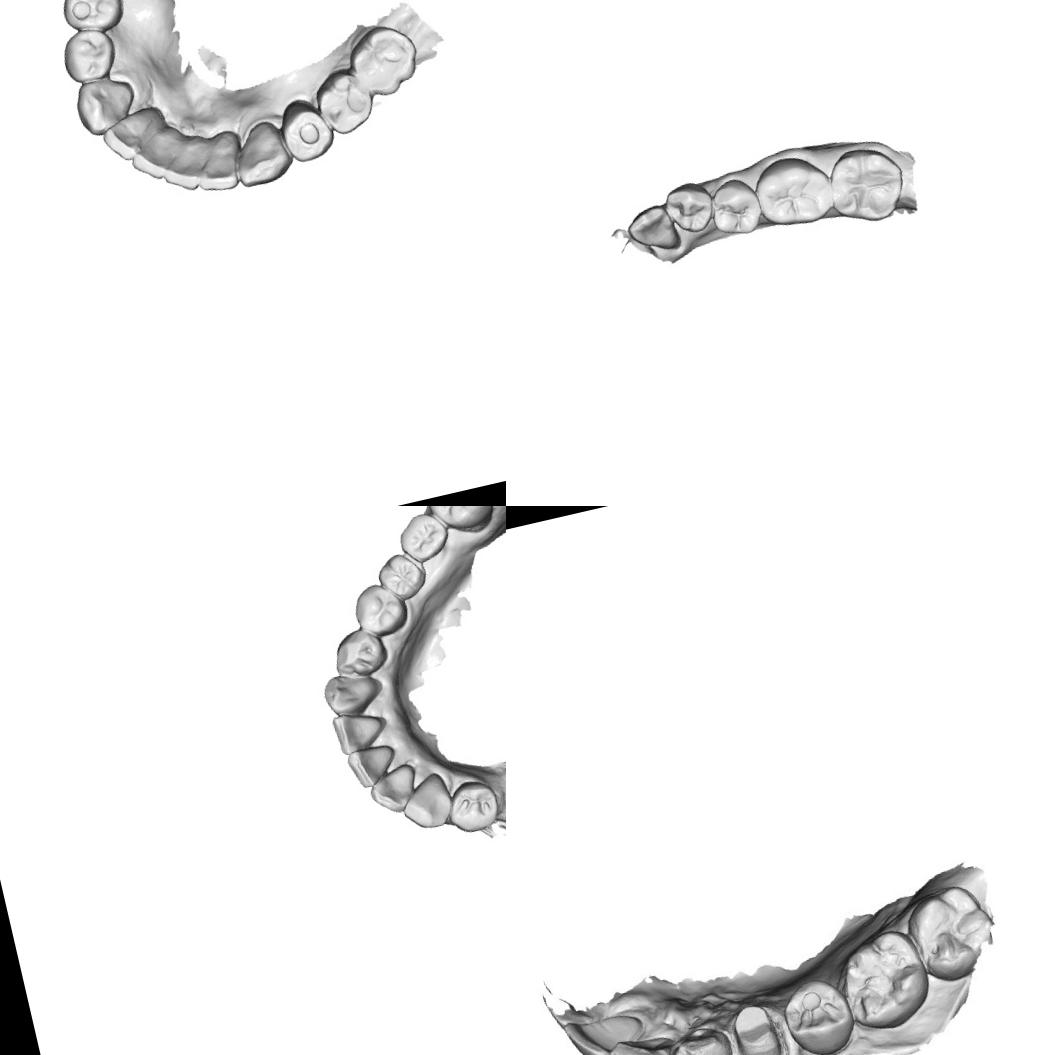canine: (226, 115, 296, 190), (70, 73, 142, 140), (396, 770, 456, 836), (318, 666, 386, 720), (624, 201, 684, 259), (660, 1018, 738, 1055)
crown: (720, 994, 797, 1055)
incisor: (559, 999, 652, 1055), (98, 106, 166, 166), (124, 126, 189, 186), (155, 137, 215, 198), (190, 134, 244, 197), (365, 761, 423, 818), (329, 705, 390, 758), (345, 742, 403, 792), (607, 1026, 685, 1055)
molar: (831, 925, 939, 1039), (898, 877, 1002, 989), (822, 138, 912, 230), (749, 149, 839, 234), (342, 18, 426, 104), (392, 508, 454, 567), (373, 547, 431, 607), (418, 506, 500, 538)
premolar: (771, 971, 861, 1055), (309, 61, 380, 141), (274, 92, 340, 168), (56, 22, 123, 87), (705, 174, 766, 242), (348, 578, 412, 642), (442, 774, 504, 838), (328, 624, 392, 684), (660, 178, 720, 239), (54, 0, 129, 40)
